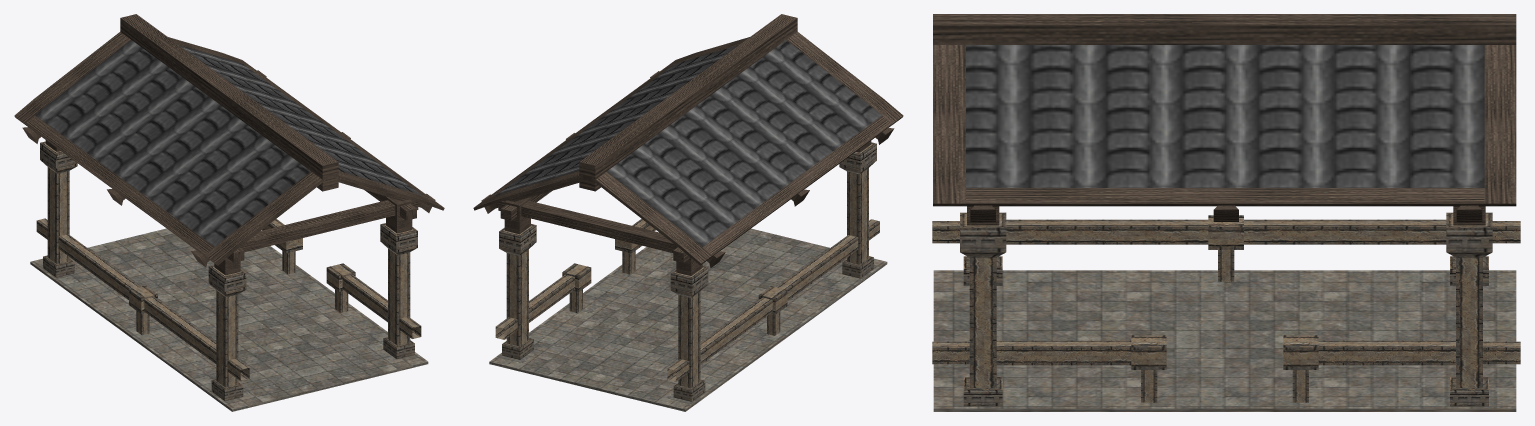
Rendered from corredorjp-ENT2c.fbx.
3 renders of one model, left to right at view 1: azimuth 30°, elevation 25°; view 2: azimuth 150°, elevation 25°; view 3: azimuth 270°, elevation 25°, orthographic. The views are drawn at different scales.
Parts seen in each view (by area): view 1: Cube; view 2: Cube; view 3: Cube.
Boxes of the visible parts, box(x1,y1,x2,y2) form: Cube: box(14, 14, 444, 411); Cube: box(473, 14, 903, 411); Cube: box(932, 14, 1520, 411).
Bounding box in the file's own units: 3.36 × 3.05 × 5.04.
